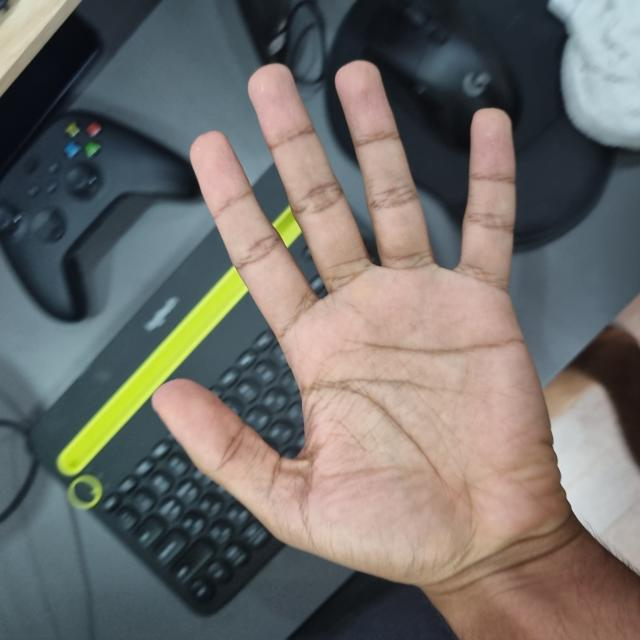Paper: (48, 148, 579, 567)
